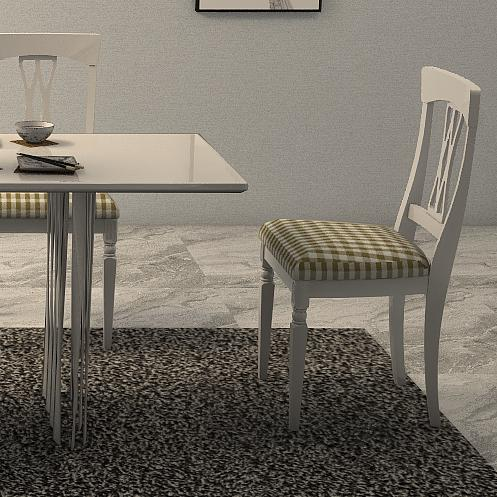table: (1, 130, 245, 442)
